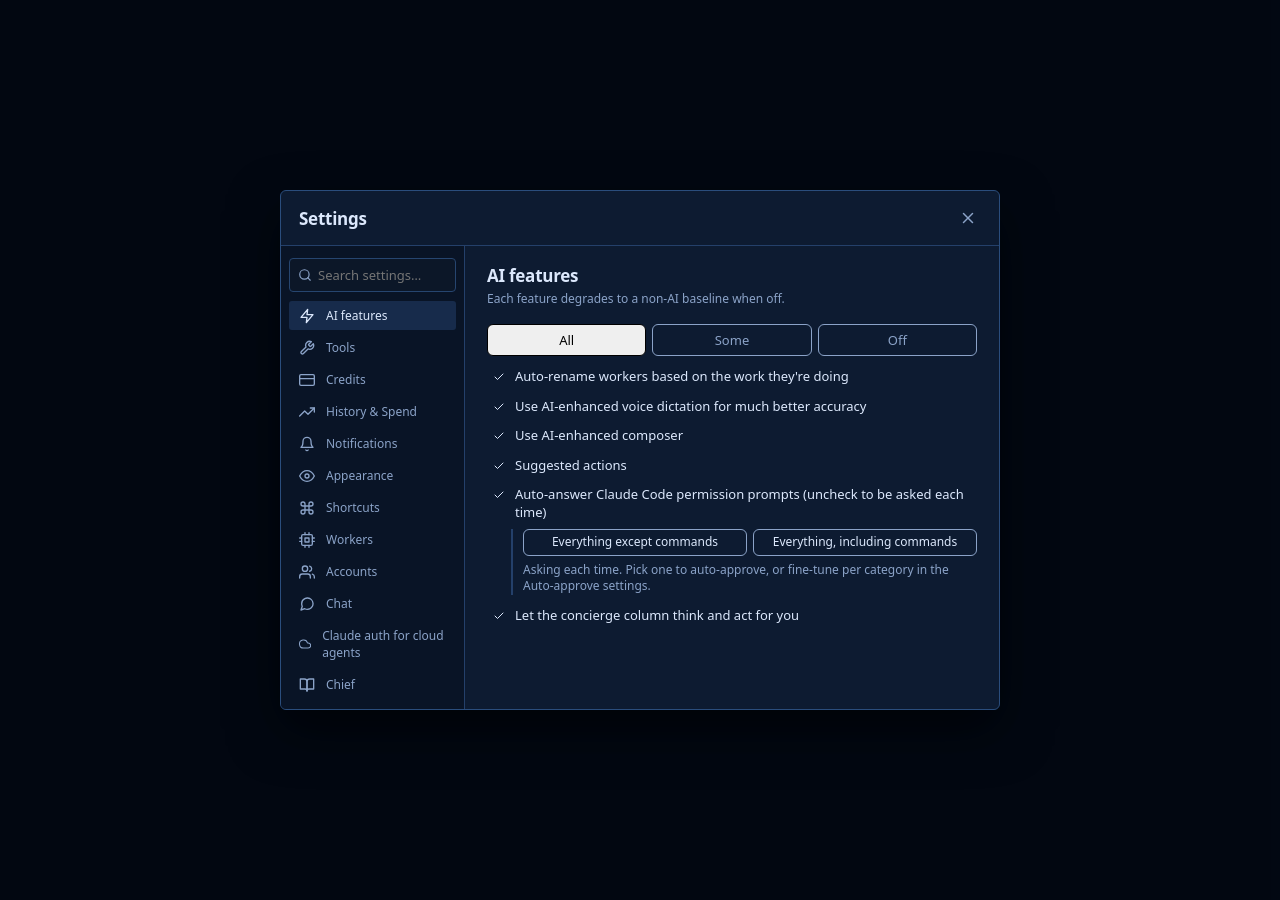
Test: SettingsDialog — the Chat category › does not swallow searches that belong to other categories
The image size is (1280, 900).
Type "sign out" into the field labelled "Search settings" at (372, 275), box [289,258,456,292]
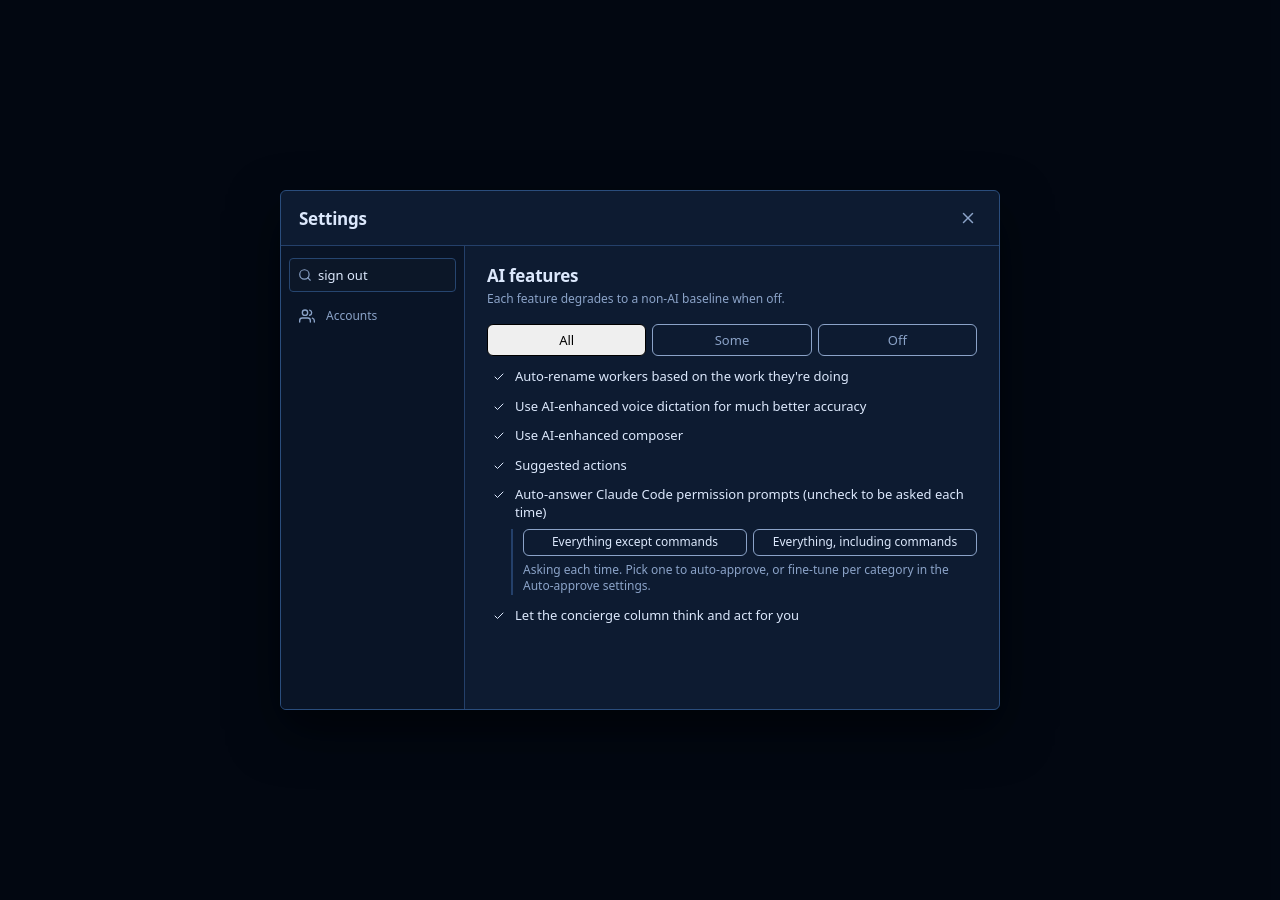
Expected: the button "Accounts" is shown, [289,301,456,330]
Result: the button "Chat" is gone
